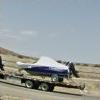Boat: (15, 53, 82, 89)
